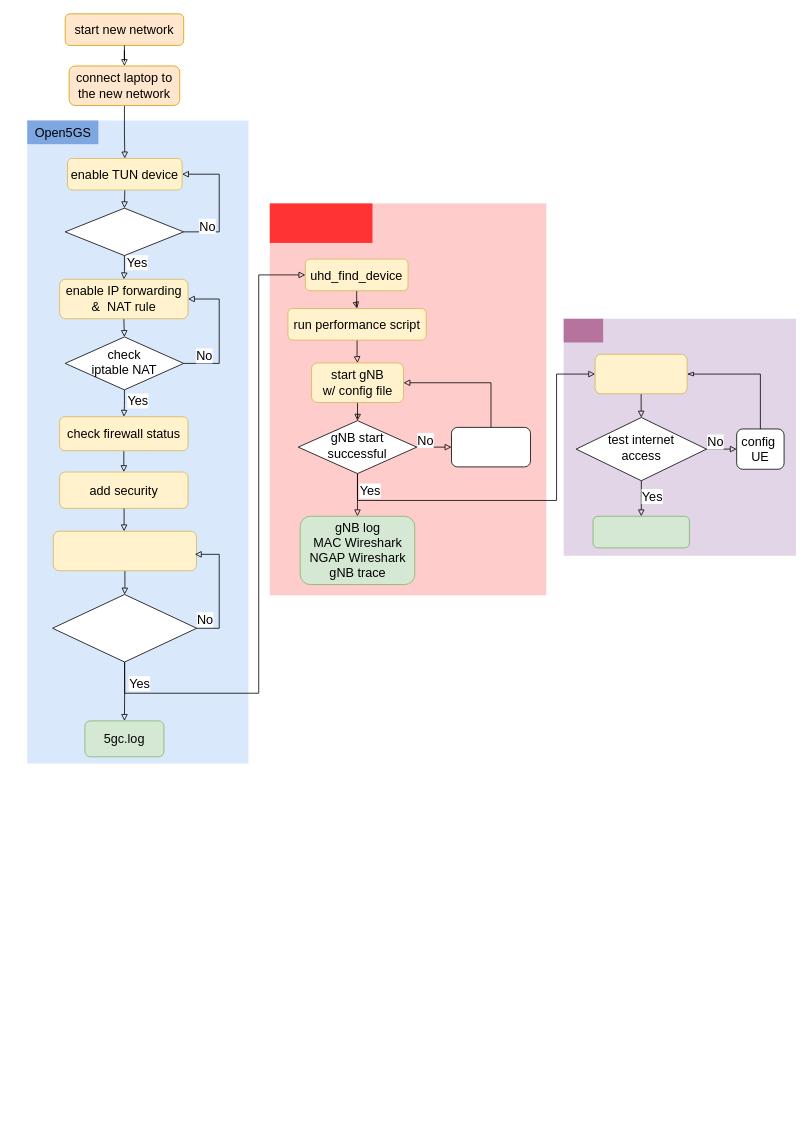
Some shapes in this 809 by 1142 pixel diagram are drawn without their labels. Each missing label, with the box of its shape:
check all open5GS Service start: (52, 594, 197, 662)
check ifconfig: (64, 207, 184, 256)
gNB srsRAN Project: (269, 203, 372, 243)
kill existed gNB: (451, 427, 530, 467)
start open5GS service w/ config files: (53, 530, 196, 571)
start UE w/ config: (594, 354, 687, 394)
UE: (563, 318, 603, 342)
UE w/ internet: (592, 515, 689, 548)
